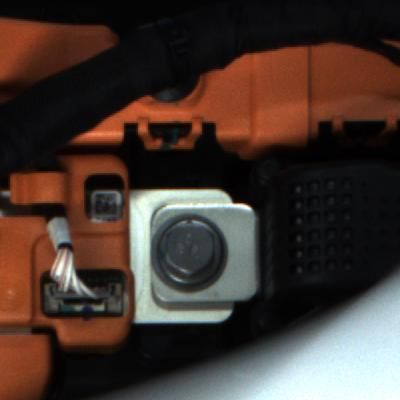nut_b: (154, 212, 237, 293)
